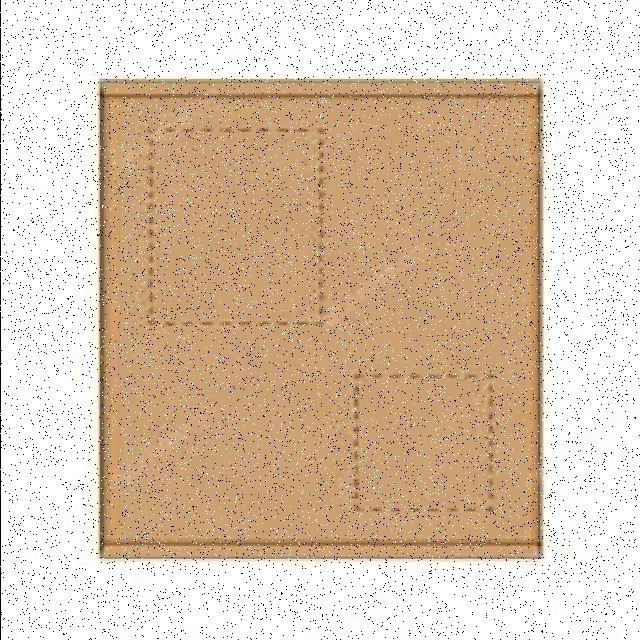normal: (95, 74, 551, 563)
